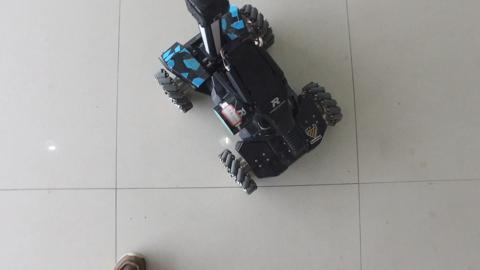chariot: (141, 4, 340, 180)
